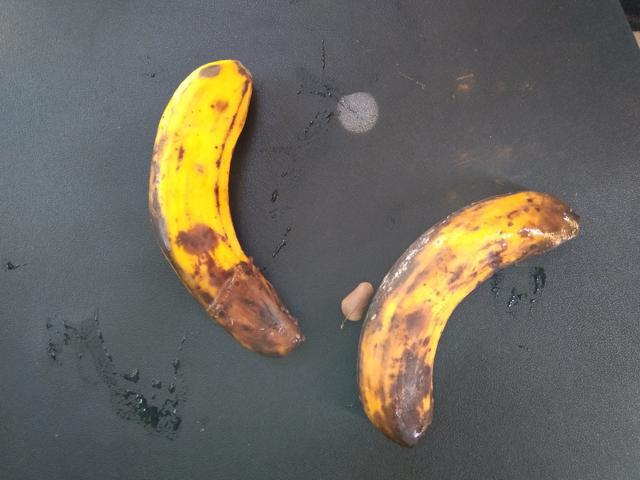rotten: (339, 172, 606, 458), (142, 41, 316, 352)
